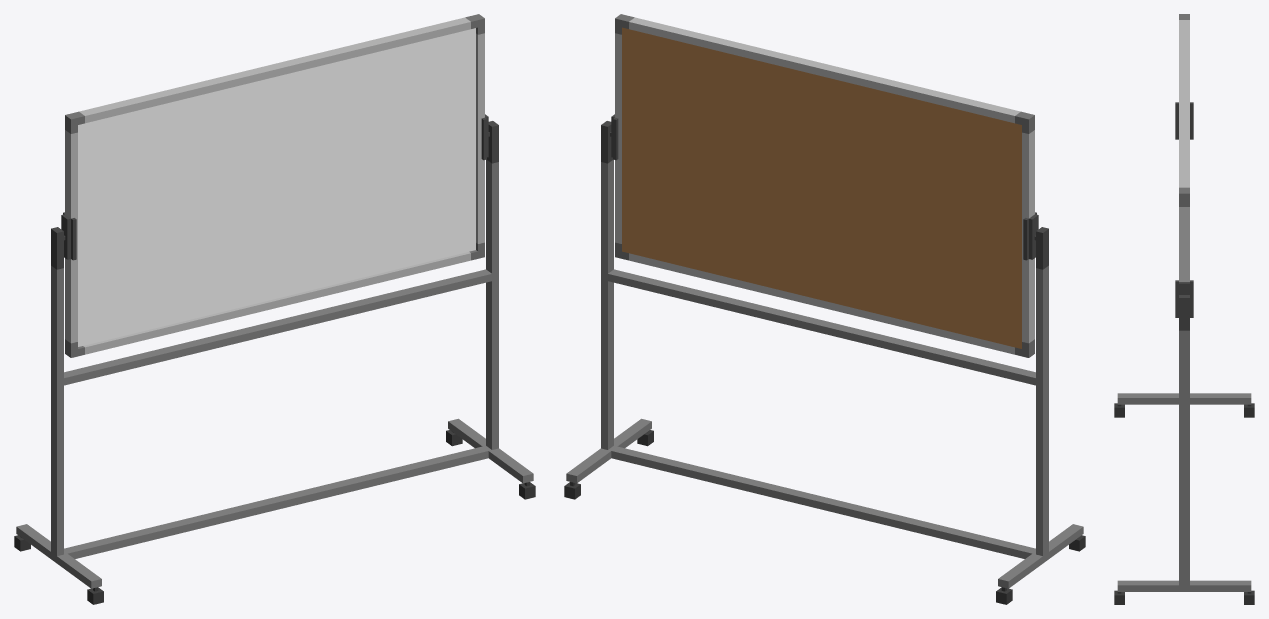
The model's file is White_Board3.fbx.
3 views of the same model, side by side, from view 1: azimuth 30°, elevation 25°; view 2: azimuth 150°, elevation 25°; view 3: azimuth 270°, elevation 25° (orthographic). The views are drawn at different scales.
Visible parts, largest first — view 1: White Board3.002, White Board3.000; view 2: White Board3.002, White Board3.000; view 3: White Board3.000, White Board3.002.
Boxes of the visible parts, x1=… form: White Board3.002: x1=61, y1=14, x2=489, y2=357; White Board3.000: x1=14, y1=121, x2=535, y2=604; White Board3.002: x1=610, y1=14, x2=1038, y2=357; White Board3.000: x1=564, y1=121, x2=1085, y2=604; White Board3.000: x1=1114, y1=295, x2=1254, y2=604; White Board3.002: x1=1175, y1=14, x2=1193, y2=317.
Size of the model in its own units: 12.6 by 12.4 by 3.9.
